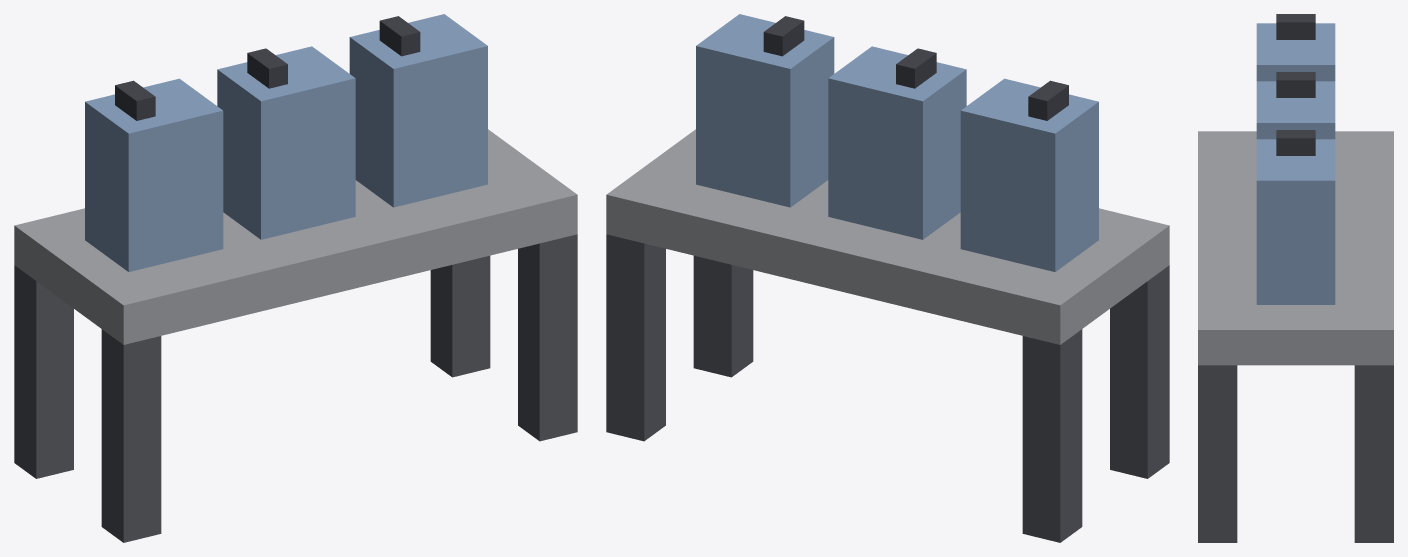
File: table_ration.glb
The picture shows the model from 3 angles, left to right: view 1: azimuth 30°, elevation 25°; view 2: azimuth 150°, elevation 25°; view 3: azimuth 270°, elevation 25°; orthographic projection. The views are drawn at different scales.
Visible parts, largest first — view 1: main; view 2: main; view 3: main.
Part boxes in pixels (x1,y1,x2,y2): main: (14,14,577,542); main: (606,14,1169,542); main: (1198,14,1393,542).
Bounding box in the file's own units: 1.5 × 1.25 × 0.625.
